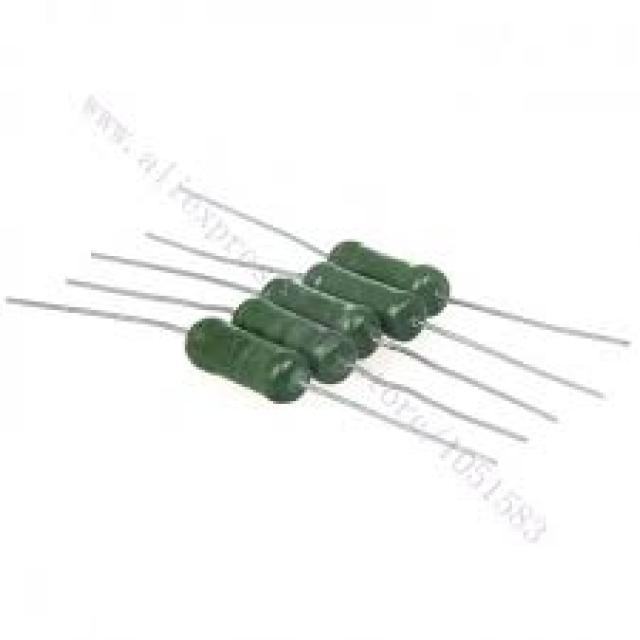Resistor: (302, 245, 447, 342), (185, 316, 310, 404), (260, 278, 377, 356)
